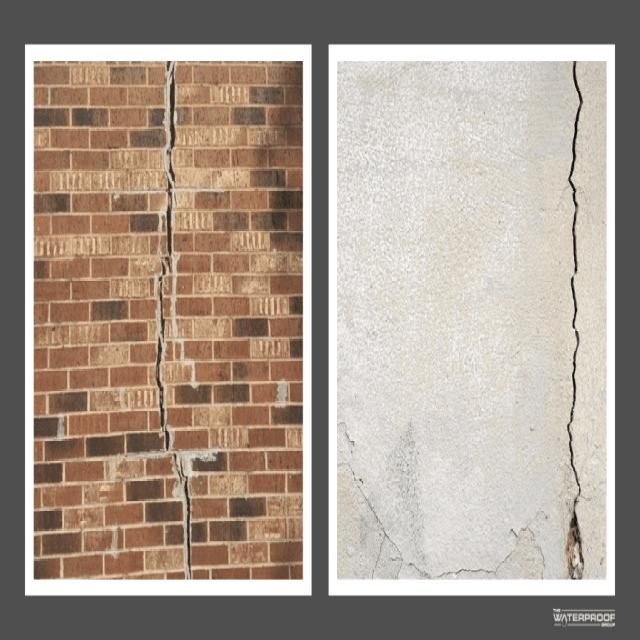Crack: (337, 418, 547, 574), (154, 60, 194, 577), (564, 58, 584, 580)
